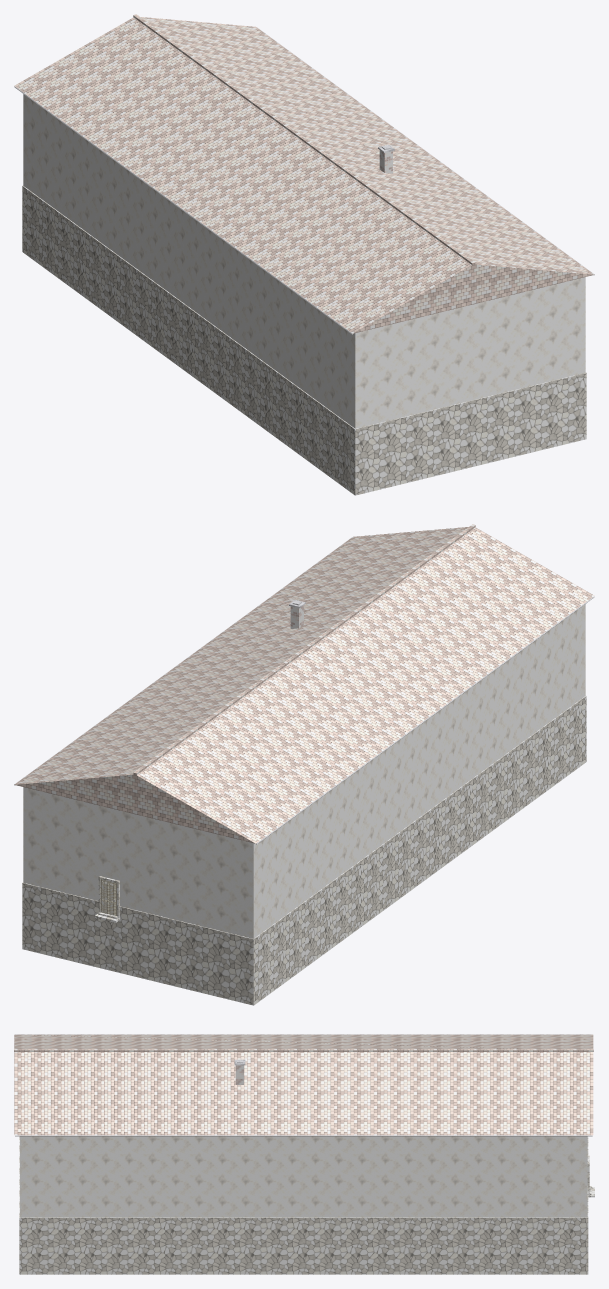
3 views of the same model, one above another, from view 1: azimuth 30°, elevation 25°; view 2: azimuth 150°, elevation 25°; view 3: azimuth 270°, elevation 25° (orthographic). The views are drawn at different scales.
Parts seen in each view (by area): view 1: b1086637699; view 2: b1086637699; view 3: b1086637699.
Boxes of the visible parts, bbox=[...] form: b1086637699: bbox=[14, 14, 594, 495]; b1086637699: bbox=[14, 524, 594, 1005]; b1086637699: bbox=[14, 1034, 594, 1274].
Bounding box in the file's own units: 14.42 × 12.19 × 34.92.
Materials: 14 (14 with a texture image).
